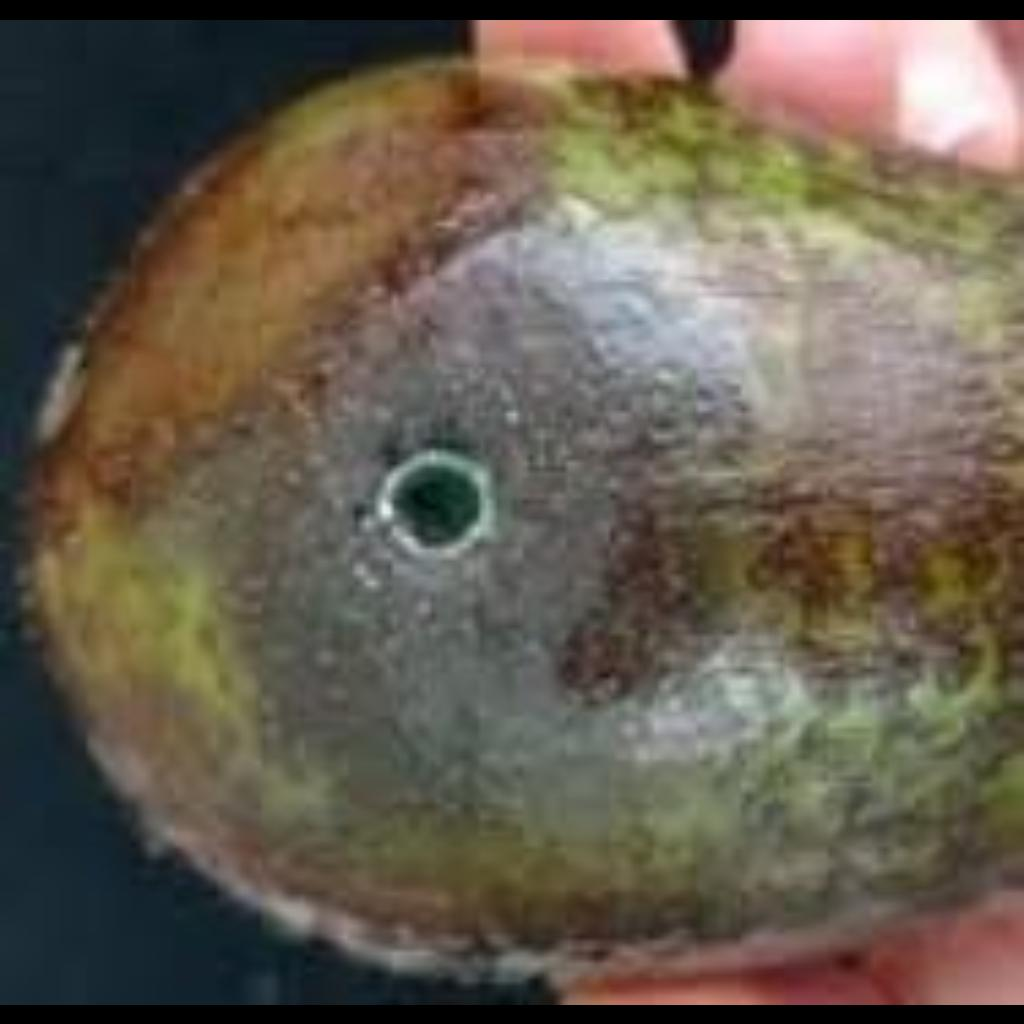Anthracnose: (54, 54, 992, 948)
